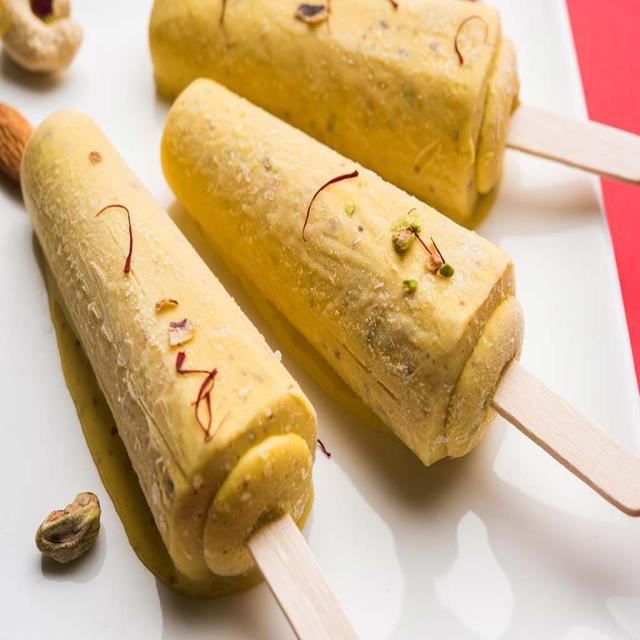kulfi: (23, 85, 525, 579)
